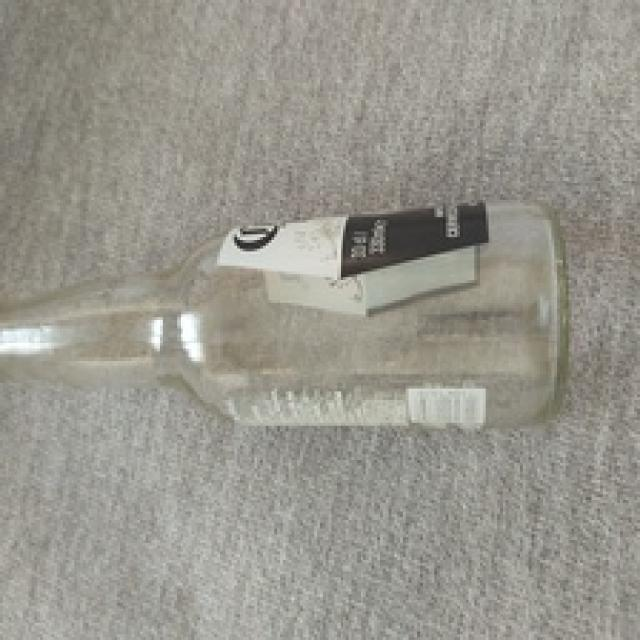garbage: (0, 154, 601, 447)
